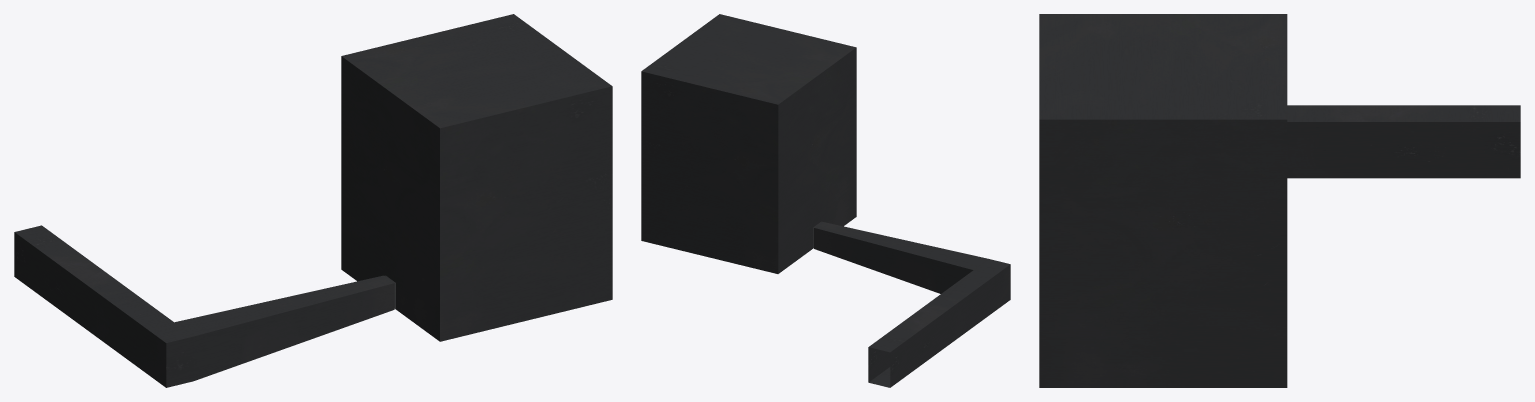
The model's file is salle_secrete2.obj.
3 renders of one model, left to right at view 1: azimuth 30°, elevation 25°; view 2: azimuth 150°, elevation 25°; view 3: azimuth 270°, elevation 25°, orthographic. The views are drawn at different scales.
Visible parts, largest first — view 1: salle_secret2; view 2: salle_secret2; view 3: salle_secret2.
Part boxes in pixels (box(x1,y1,x2,y2)): salle_secret2: box(14, 14, 612, 387); salle_secret2: box(641, 14, 1010, 387); salle_secret2: box(1039, 14, 1520, 387).
Size of the model in its own units: 46.65 by 25.41 by 38.09.
1 material, 1 textured.
